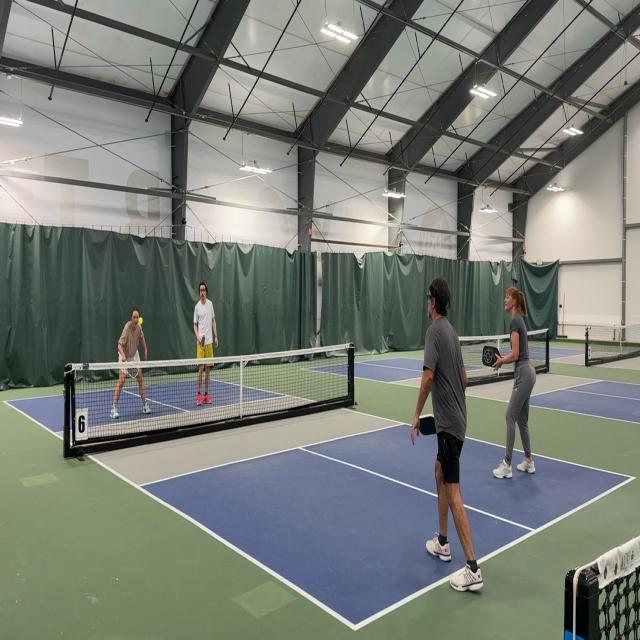ball: (138, 316, 144, 326)
